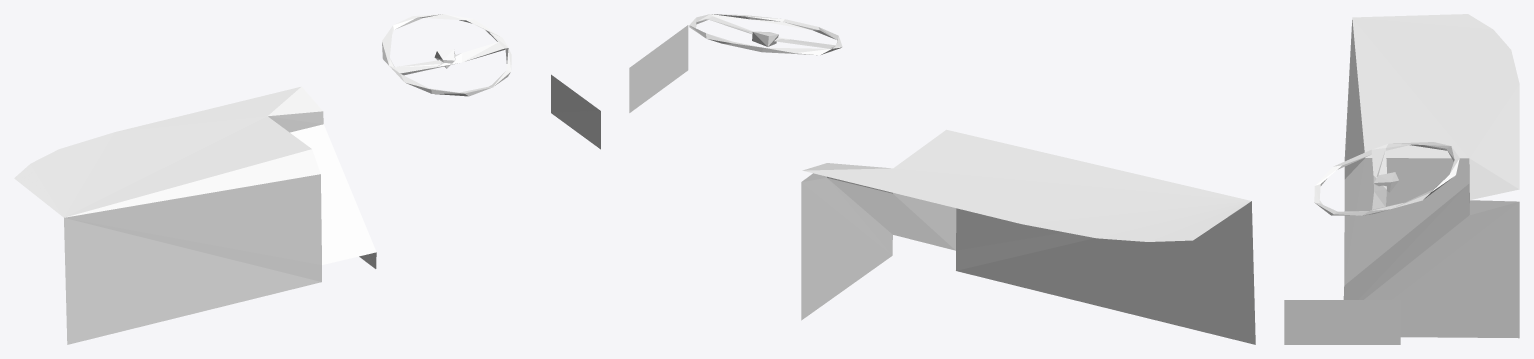
3 renders of one model, left to right at view 1: azimuth 30°, elevation 25°; view 2: azimuth 150°, elevation 25°; view 3: azimuth 270°, elevation 25°, orthographic. The views are drawn at different scales.
Size of the model in its own units: 2.33 by 0.8585 by 0.8035.
1 material, 1 textured.
